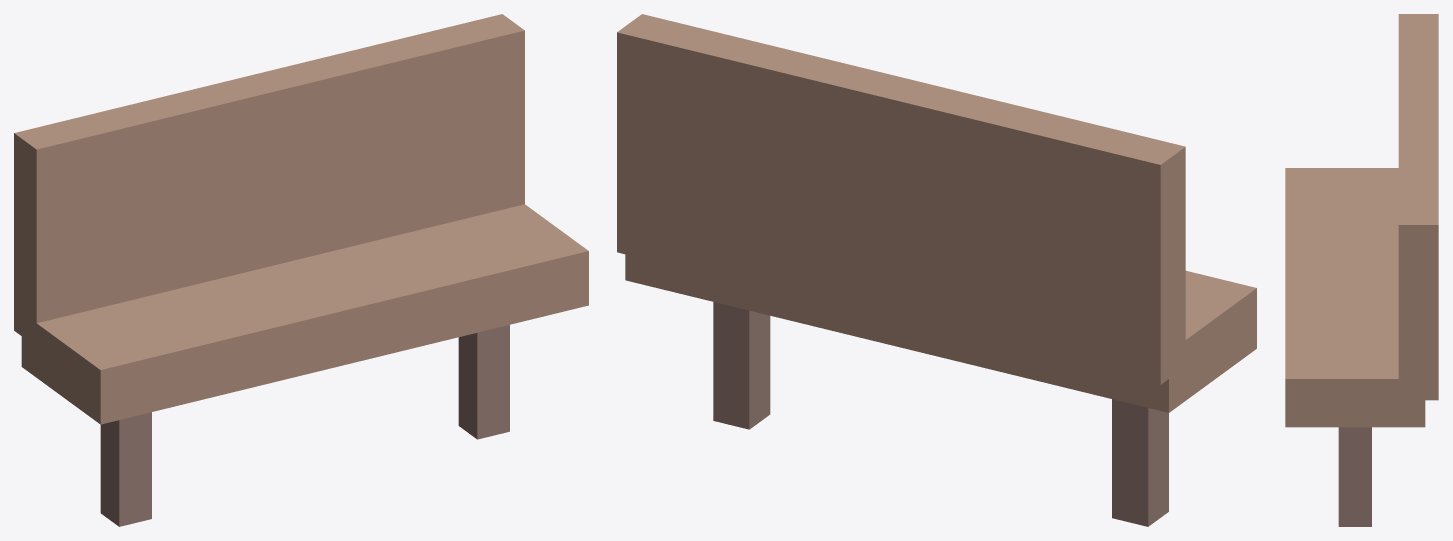
The model's file is bench.glb.
3 views of the same model, side by side, from view 1: azimuth 30°, elevation 25°; view 2: azimuth 150°, elevation 25°; view 3: azimuth 270°, elevation 25° (orthographic). The views are drawn at different scales.
Visible parts, largest first — view 1: bench_1, bench_0, bench_2, bench_3; view 2: bench_1, bench_0, bench_3, bench_2; view 3: bench_0, bench_1, bench_3.
Boxes of the visible parts, x1,y1,x2,y2 form: bench_1: (14, 14, 524, 346); bench_0: (21, 204, 588, 424); bench_2: (100, 412, 151, 526); bench_3: (458, 325, 509, 439); bench_1: (617, 14, 1185, 384); bench_0: (625, 254, 1256, 412); bench_3: (713, 302, 770, 429); bench_2: (1112, 399, 1168, 526); bench_0: (1285, 168, 1425, 427); bench_1: (1398, 14, 1438, 400); bench_3: (1338, 427, 1371, 526).
Size of the model in its own units: 1.5 by 1.07 by 0.46.
